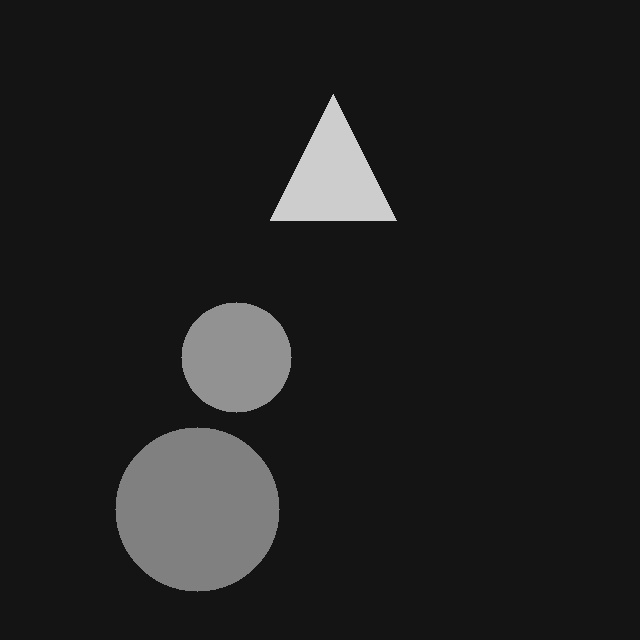circle: (115, 427, 279, 591), (181, 302, 291, 412)
triangle: (270, 94, 396, 220)
